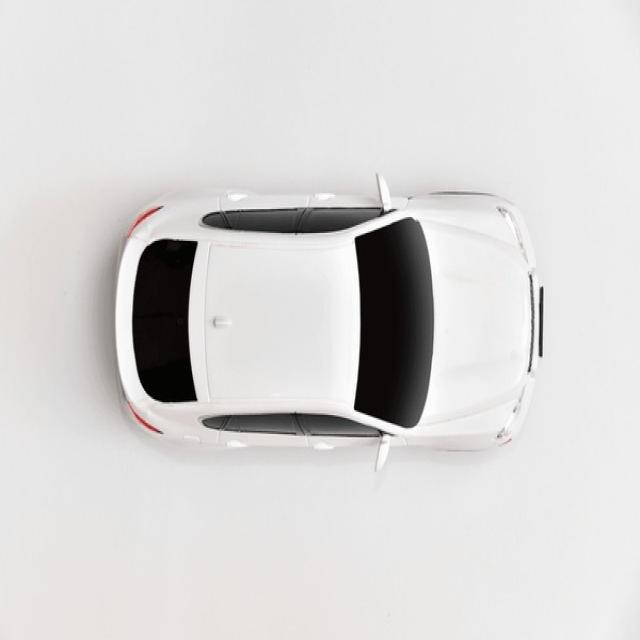SUV: (112, 171, 545, 471)
